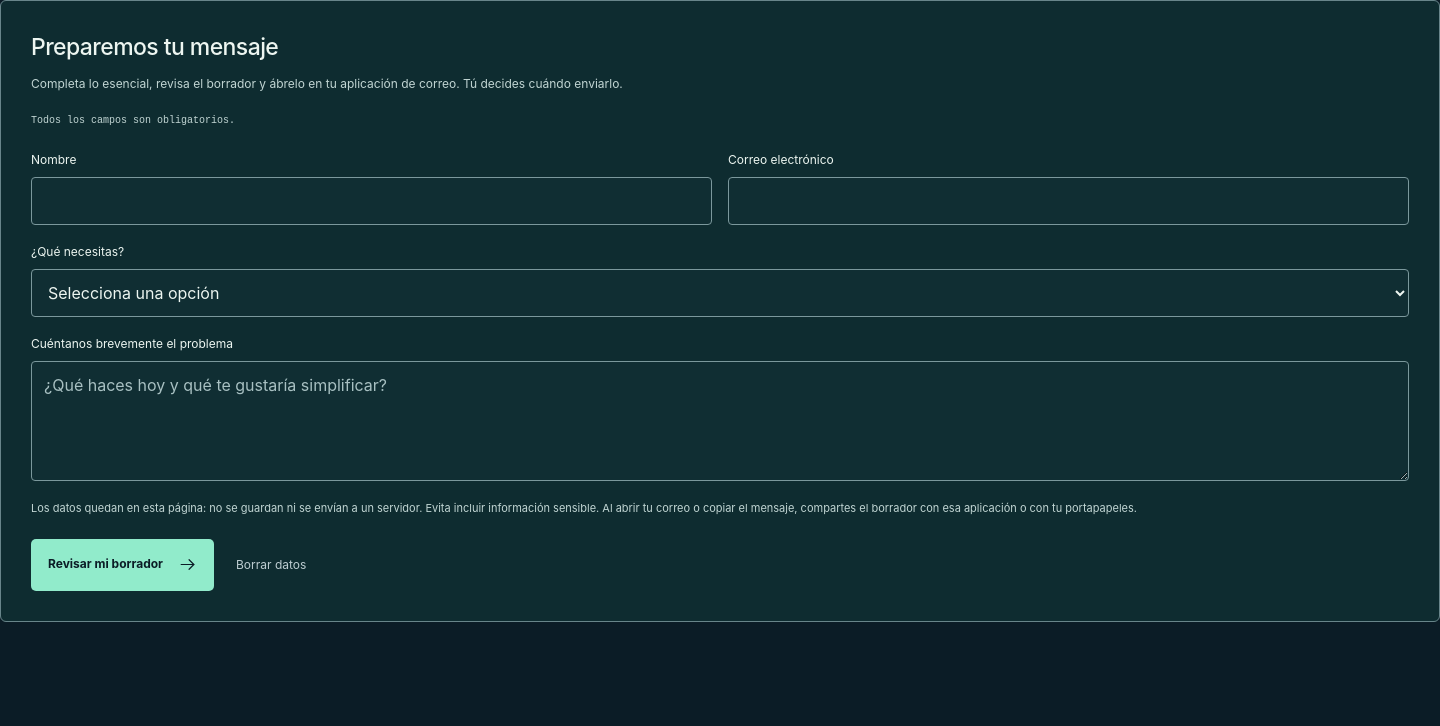
local contact draft › clears personal details and the draft without claiming to recall copied data
This screenshot has width=1440, height=726.
Type "Ana Pérez" into the field labelled "Nombre". click: (372, 201)
box: [31, 177, 712, 225]
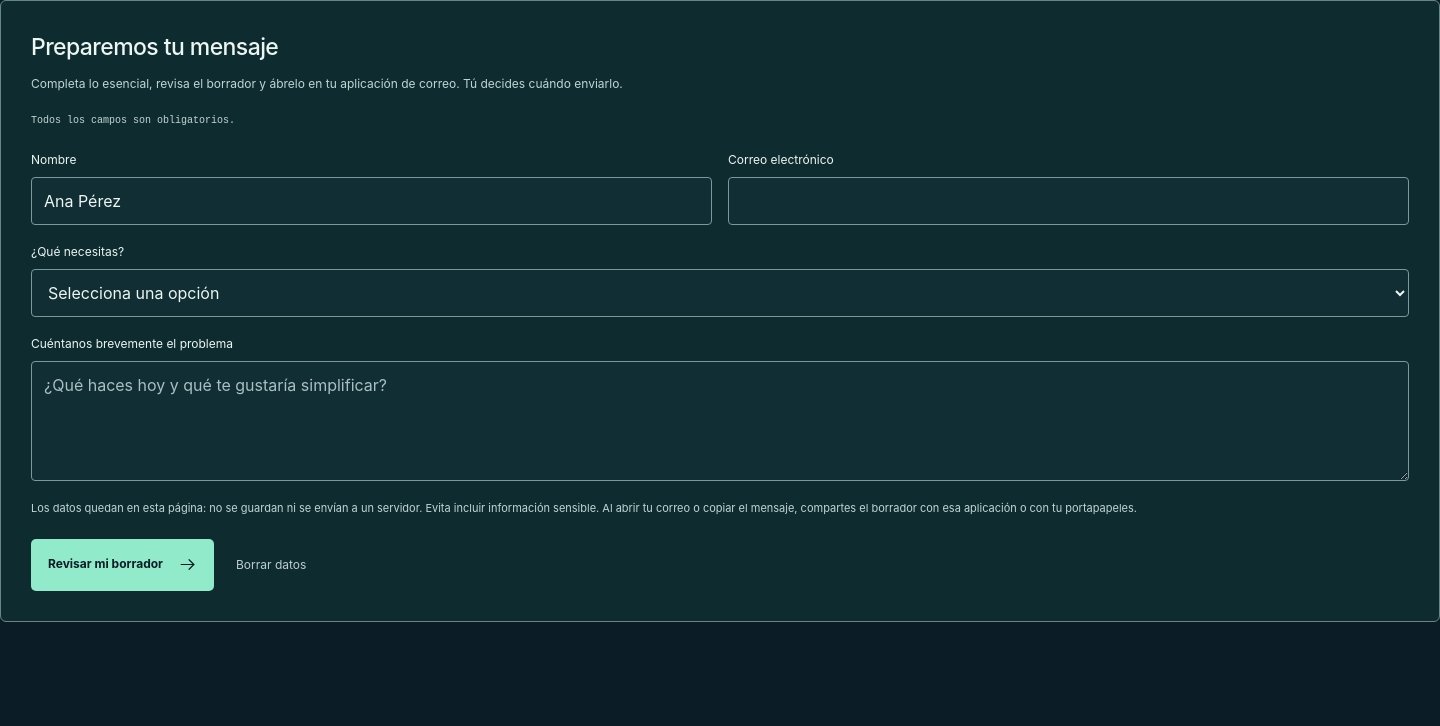
Type "ana@example.org" into the field labelled "Correo electrónico". click: (1068, 201)
box: [728, 177, 1409, 225]
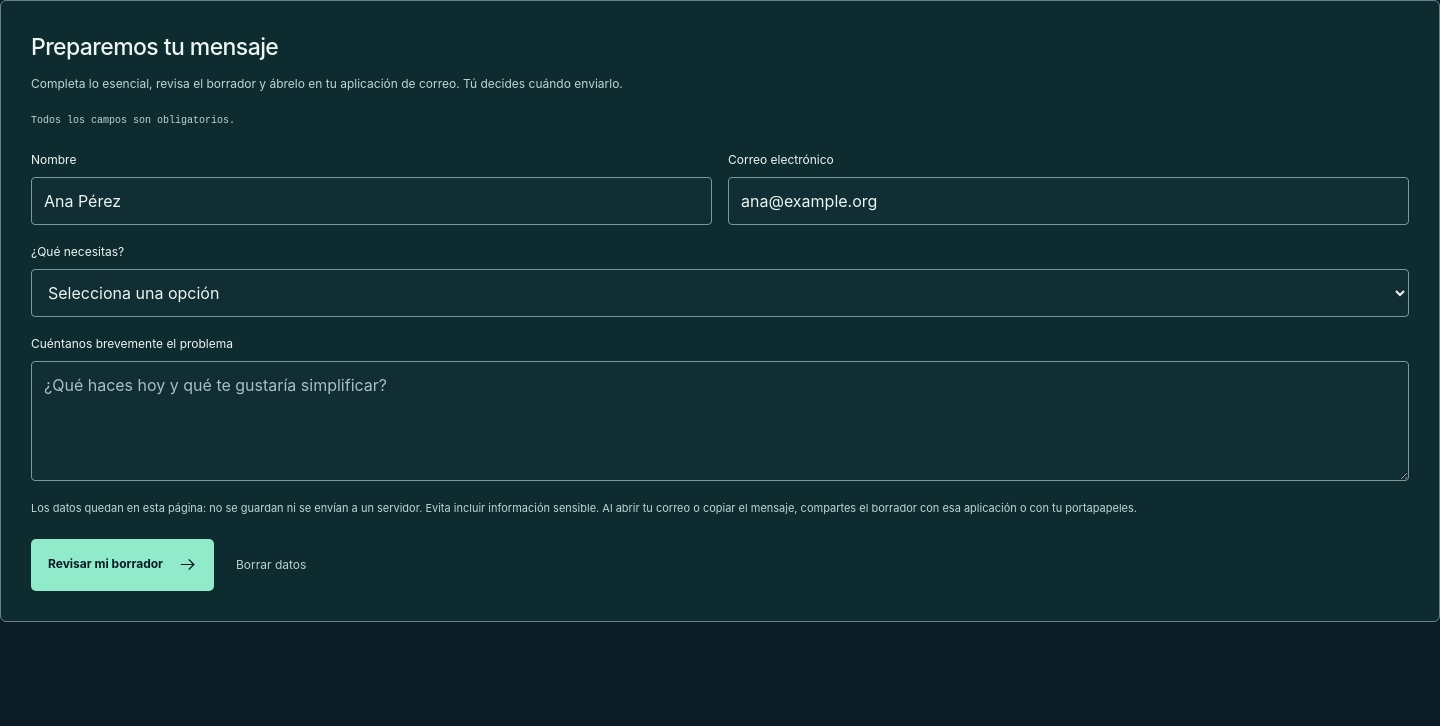
Select "Automatizar una tarea o reporte" in the dropdown labelled "¿Qué necesitas?". click: (720, 293)
box: [31, 269, 1409, 317]
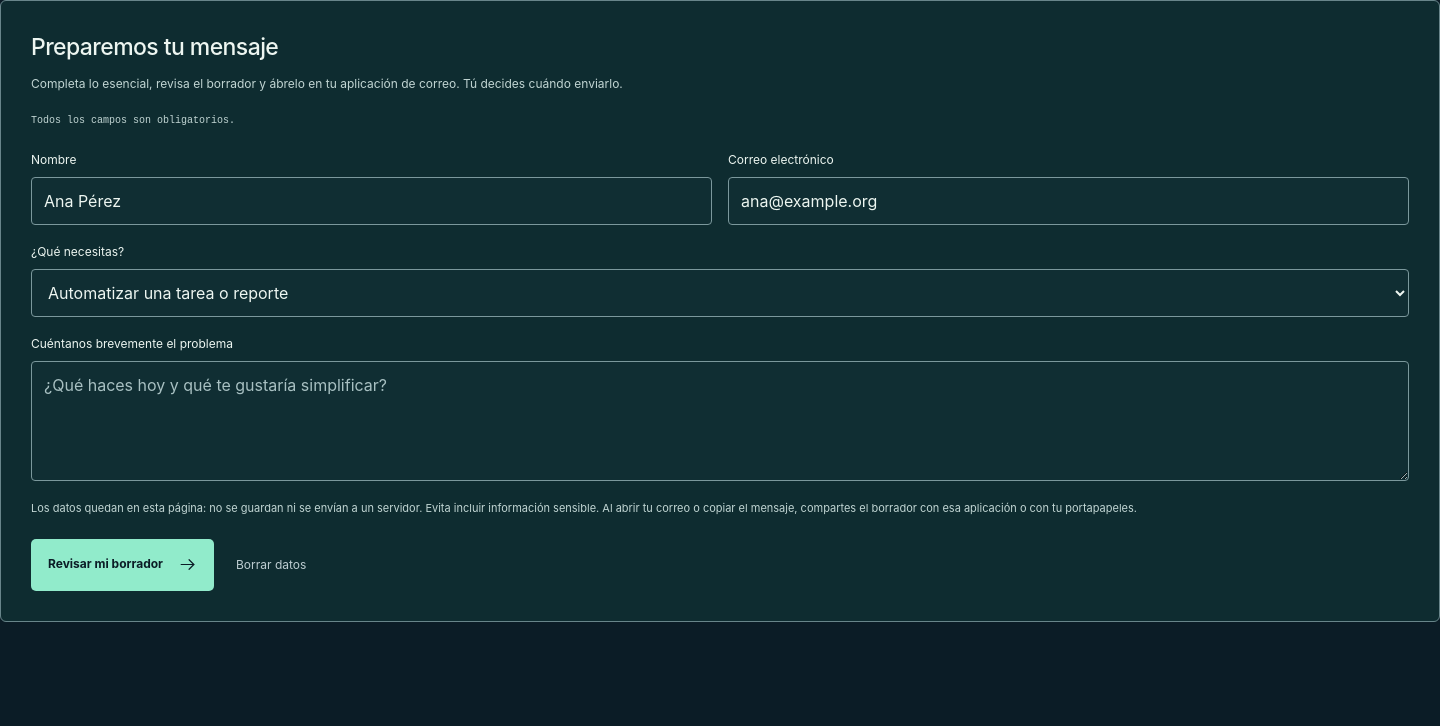
Type "Quiero consolidar las planillas de mi negocio." into the text box labelled "Cuéntanos brevemente el problema". click: (720, 421)
box: [31, 361, 1409, 481]
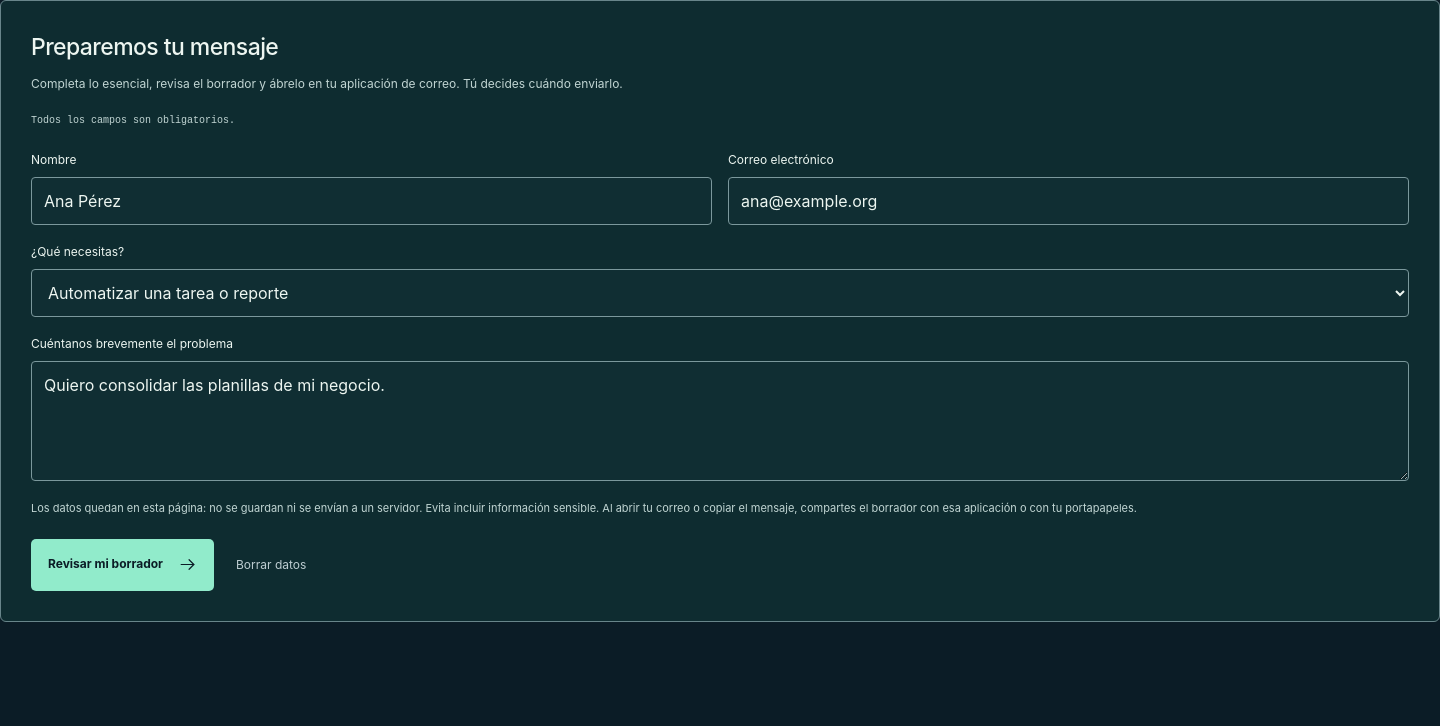
Click the button "Revisar mi borrador". click: (122, 565)
box: [31, 539, 214, 591]
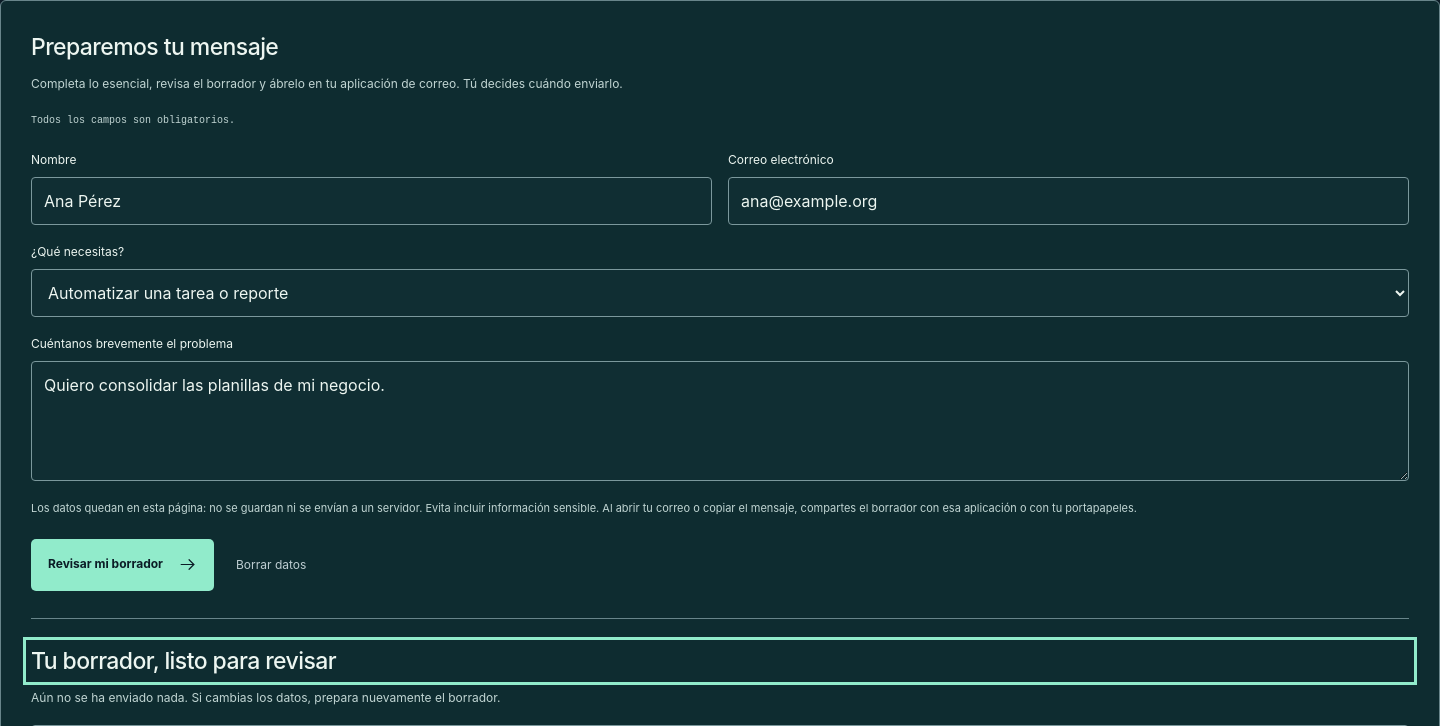
Click the button "Borrar datos". click: (271, 565)
box: [226, 543, 316, 587]
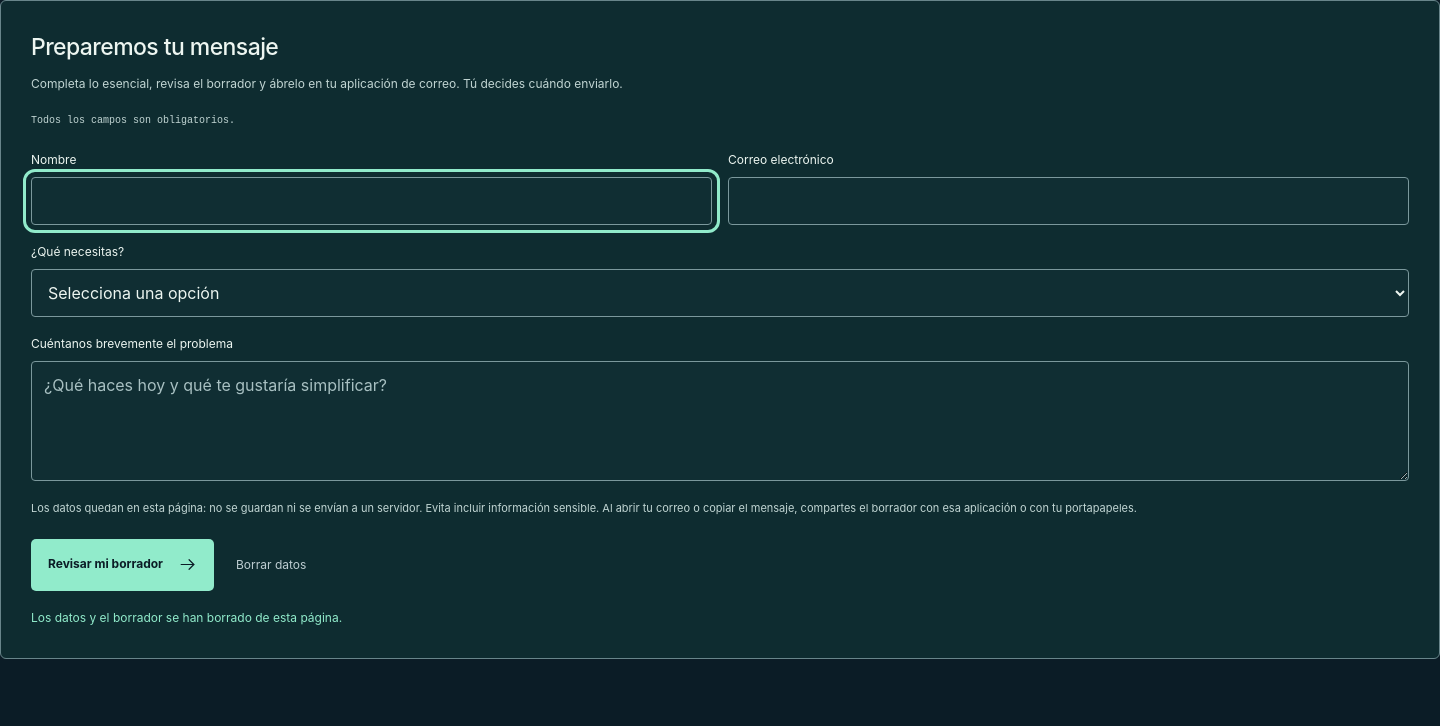
Expected: the field labelled "Nombre" is empty, [31, 177, 712, 225]
Expected: the field labelled "Correo electrónico" is empty, [728, 177, 1409, 225]
Expected: the text box labelled "Cuéntanos brevemente el problema" is empty, [31, 361, 1409, 481]
